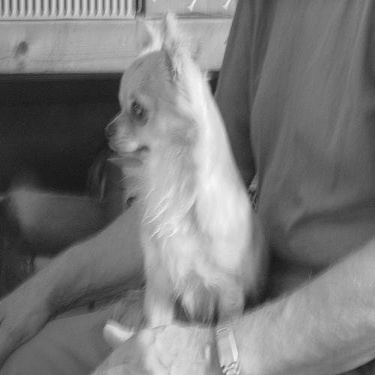dog: (96, 3, 273, 327)
